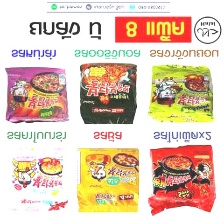snack: (143, 142, 220, 219), (72, 143, 143, 218), (142, 60, 218, 128), (2, 144, 71, 216), (74, 59, 141, 128), (0, 62, 72, 126)
